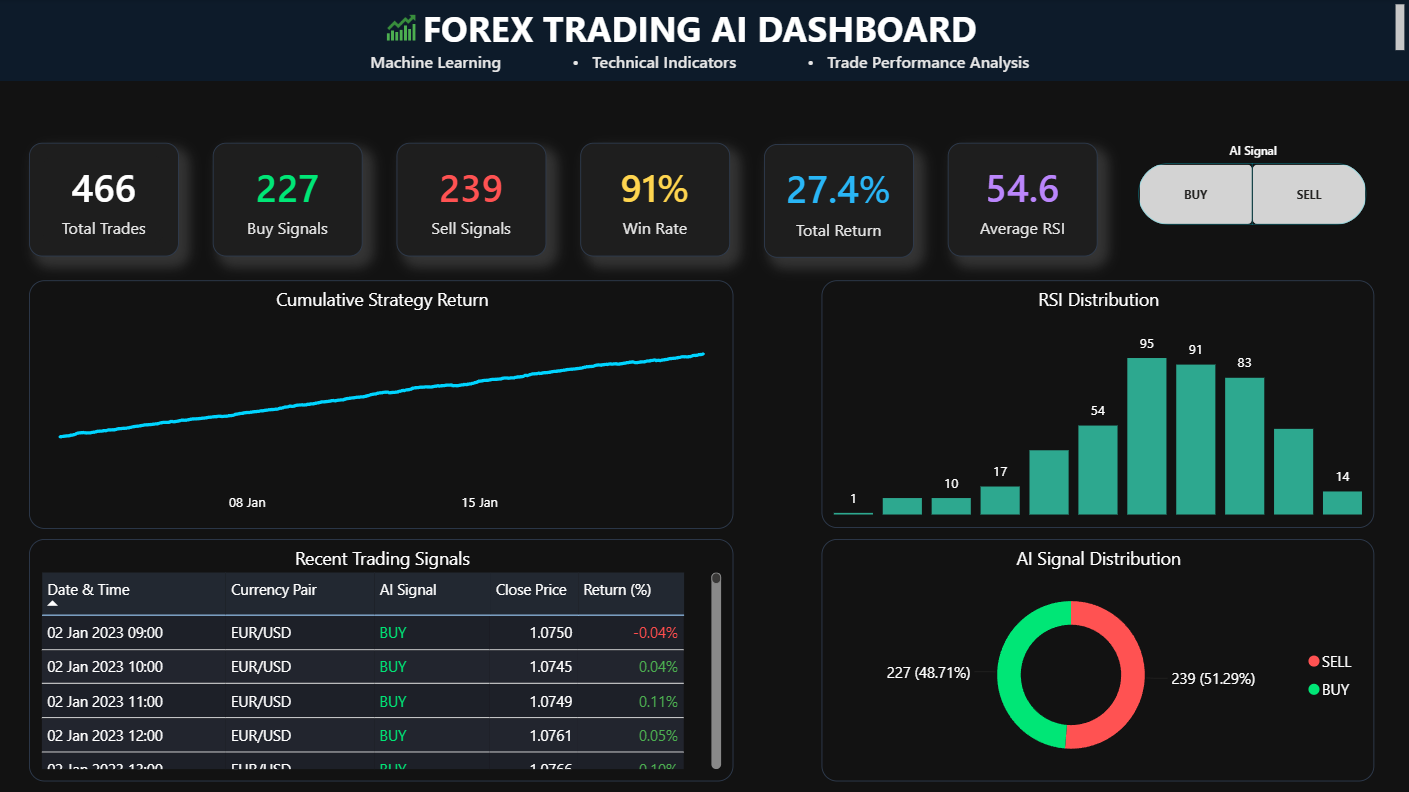

What the dashboard file says about the page in this screenshot:
{"tool":"powerbi","page":{"name":"Market Overview","canvas":[1280,720],"ordinal":0},"visuals":[{"type":"textbox","box":[0,0,1280.2,74.4],"z":0},{"type":"image","box":[344,9,41.9,31.4],"z":1000},{"type":"cardVisual","fields":{"Data":["trading_signals.Total Trades"]},"box":[26.7,130.2,136,103.5],"z":2000},{"type":"cardVisual","fields":{"Data":["trading_signals.Average RSI"]},"box":[860.5,130.2,136,103.5],"z":3000},{"type":"cardVisual","fields":{"Data":["trading_signals.Total Return"]},"box":[693.7,131.4,136,103.5],"z":4000},{"type":"cardVisual","fields":{"Data":["trading_signals.Win Rate"]},"box":[527,130.2,136,103.5],"z":5000},{"type":"cardVisual","fields":{"Data":["trading_signals.Sell Signals"]},"box":[360.2,130.2,136,103.5],"z":6000},{"type":"cardVisual","fields":{"Data":["trading_signals.Buy Signals"]},"box":[193.5,130.2,136,103.5],"z":7000},{"type":"lineChart","title":"Cumulative Strategy Return","fields":{"Category":["trading_signals.DateTime"],"Y":["Max(trading_signals.Cumulative_Return)"]},"box":[26.7,254.7,639.5,225.6],"z":8000},{"type":"clusteredColumnChart","title":"RSI Distribution","fields":{"Category":["trading_signals.RSI (bins)"],"Y":["CountNonNull(trading_signals.RSI)"]},"box":[746.3,255.2,501.3,224.6],"z":9000},{"type":"donutChart","title":"AI Signal Distribution","fields":{"Category":["trading_signals.AI_Signal"],"Y":["CountNonNull(trading_signals.AI_Signal)"]},"box":[746.3,490,501.3,220],"z":10000},{"type":"tableEx","title":"Recent Trading Signals","fields":{"Values":["trading_signals.Formatted DateTime","trading_signals.PairName","trading_signals.AI_Signal","Sum(trading_signals.Close)","Sum(trading_signals.Trade_Return)"]},"box":[26.7,489.5,639.5,219.8],"z":11000},{"type":"advancedSlicerVisual","title":"AI Signal","fields":{"Values":["trading_signals.AI_Signal"]},"box":[1029.1,130.2,218.6,80.2],"z":12000}]}

Visuals, with their boxes in screenshot pixels (x1, y1, x2, y2), scaled from the page's 1280x720 canvas onto the 1409x792 screenshot:
textbox: <region>0, 0, 1408, 82</region>
image: <region>379, 10, 425, 44</region>
cardVisual - trading_signals.Total Trades: <region>29, 143, 179, 257</region>
cardVisual - trading_signals.Average RSI: <region>947, 143, 1097, 257</region>
cardVisual - trading_signals.Total Return: <region>764, 145, 913, 258</region>
cardVisual - trading_signals.Win Rate: <region>580, 143, 730, 257</region>
cardVisual - trading_signals.Sell Signals: <region>397, 143, 546, 257</region>
cardVisual - trading_signals.Buy Signals: <region>213, 143, 363, 257</region>
"Cumulative Strategy Return" lineChart: <region>29, 280, 733, 528</region>
"RSI Distribution" clusteredColumnChart: <region>822, 281, 1373, 528</region>
"AI Signal Distribution" donutChart: <region>822, 539, 1373, 781</region>
"Recent Trading Signals" tableEx: <region>29, 538, 733, 780</region>
"AI Signal" advancedSlicerVisual: <region>1133, 143, 1373, 231</region>
